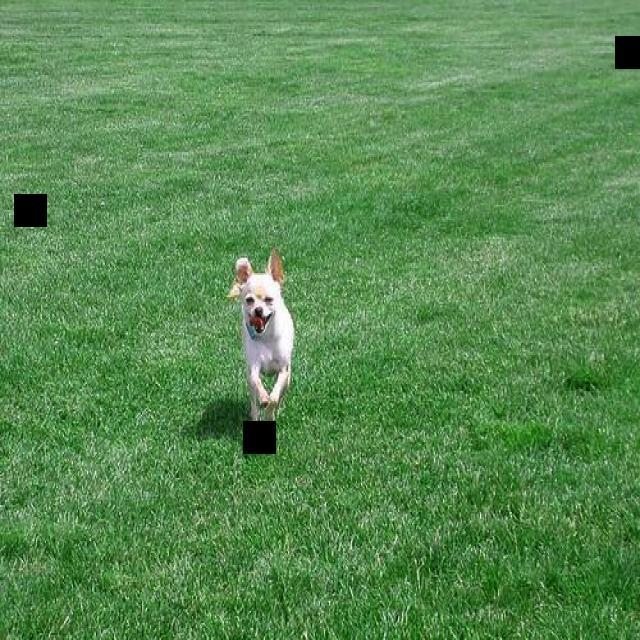adult_dog: (226, 246, 295, 422)
